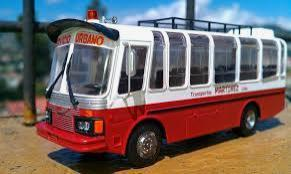bus: (38, 18, 289, 168)
